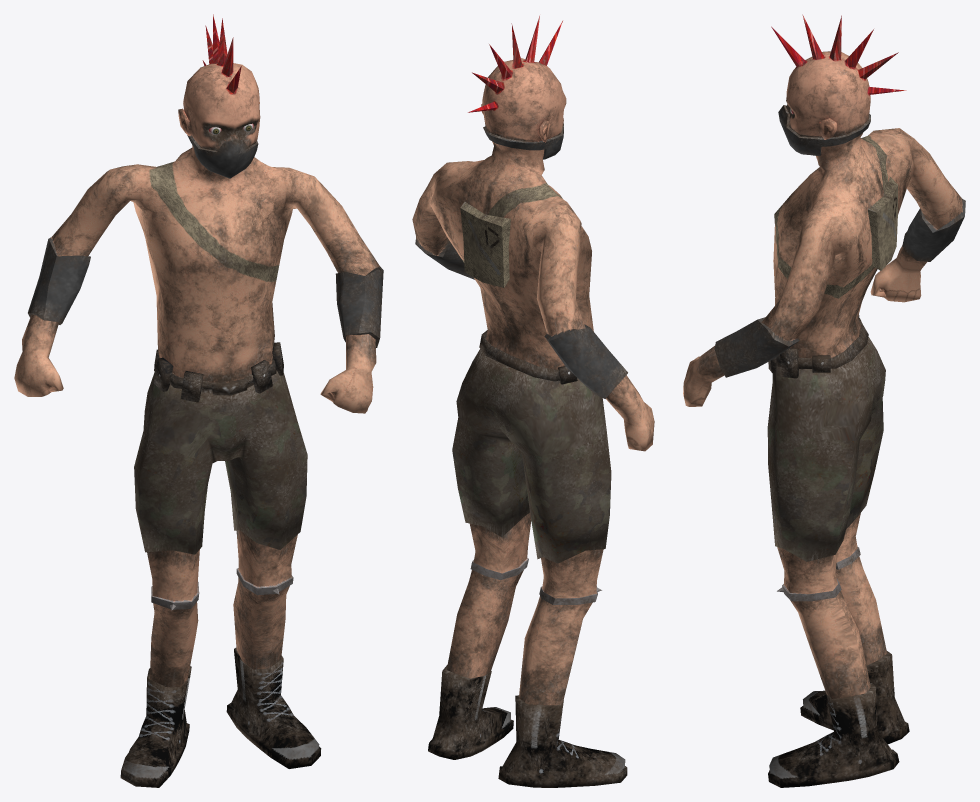
File: Anim_arma_c_npc2.0017.obj
The picture shows the model from 3 angles, left to right: view 1: azimuth 30°, elevation 25°; view 2: azimuth 150°, elevation 25°; view 3: azimuth 270°, elevation 25°; orthographic projection.
Parts seen in each view (by area): view 1: polySurface1; view 2: polySurface1; view 3: polySurface1.
Part boxes in pixels (x1=…): polySurface1: x1=14, y1=14, x2=383, y2=787; polySurface1: x1=412, y1=15, x2=654, y2=787; polySurface1: x1=683, y1=14, x2=965, y2=787.
Bounding box in the file's own units: 4.31 × 10.13 × 3.5.
